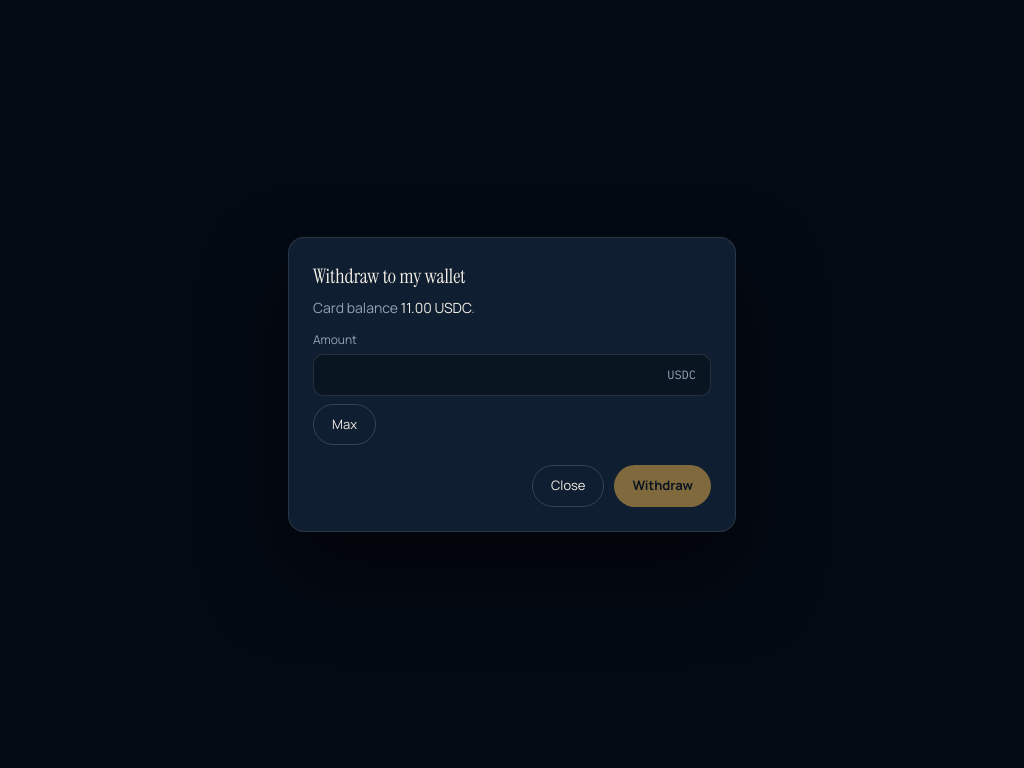
Test: WithdrawModal › fills Max from the exact base-unit balance, not the 2-decimal display
This screenshot has width=1024, height=768.
Click the button "Max" at {"x": 344, "y": 424}, box [313,404,376,445]
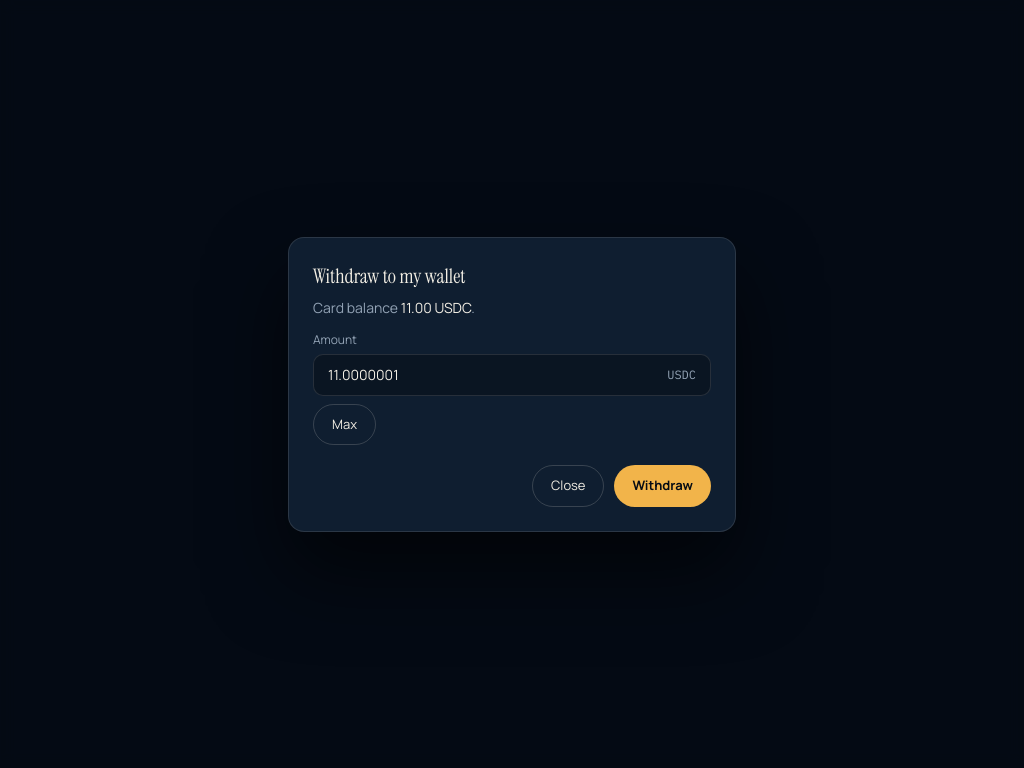
Check: the field labelled "Amount" holds "11.0000001", box [328,364,659,384]
